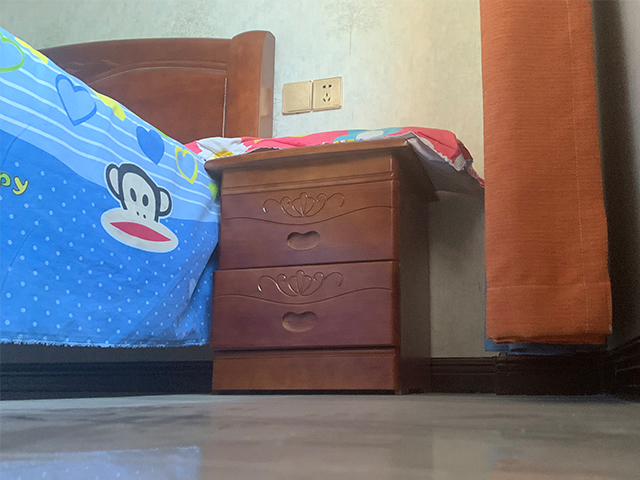bed: (1, 27, 275, 393)
cabinet: (203, 137, 439, 396)
curtain: (478, 1, 616, 357)
